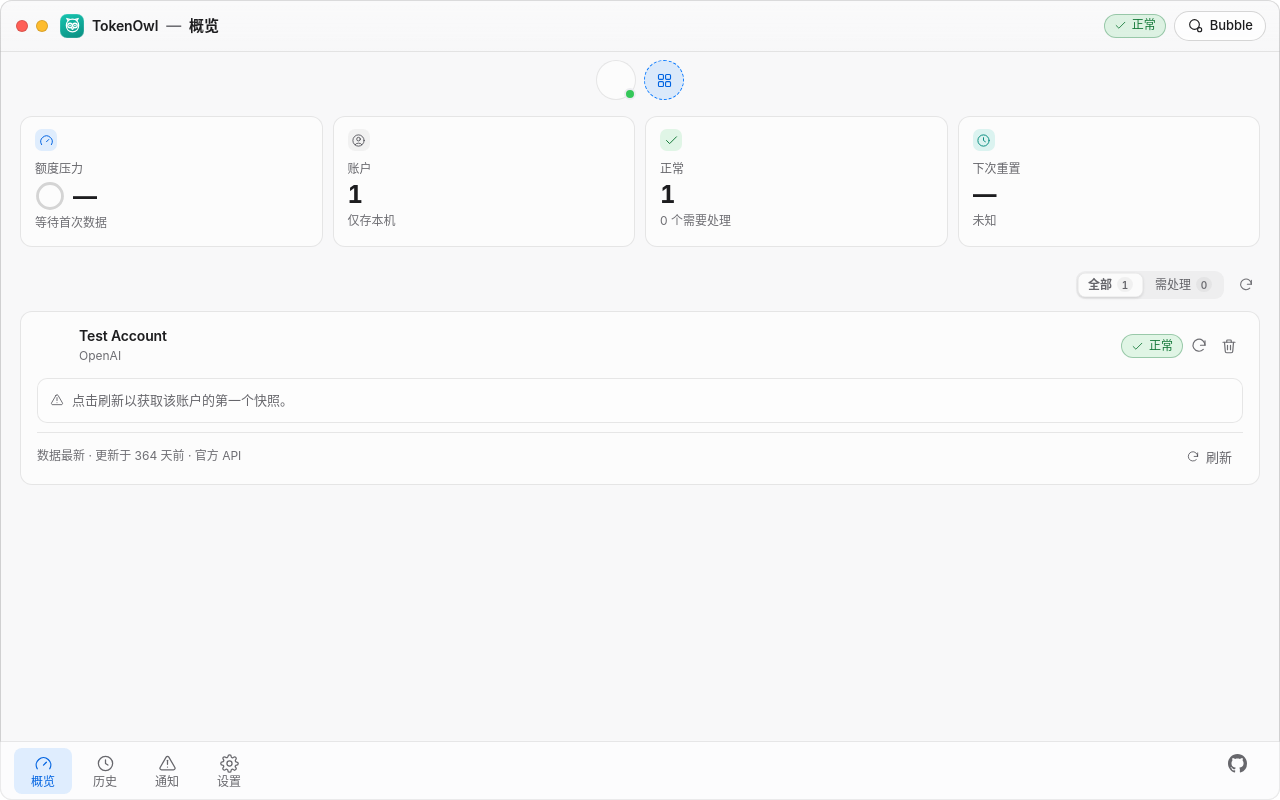
Test: Dashboard state machine › returns to the overview from a provider view on Escape
Expected: the text "Test Account" is shown, [79,326,167,346]
Click the button named "查看供应商": (616,80) [596,60,636,100]
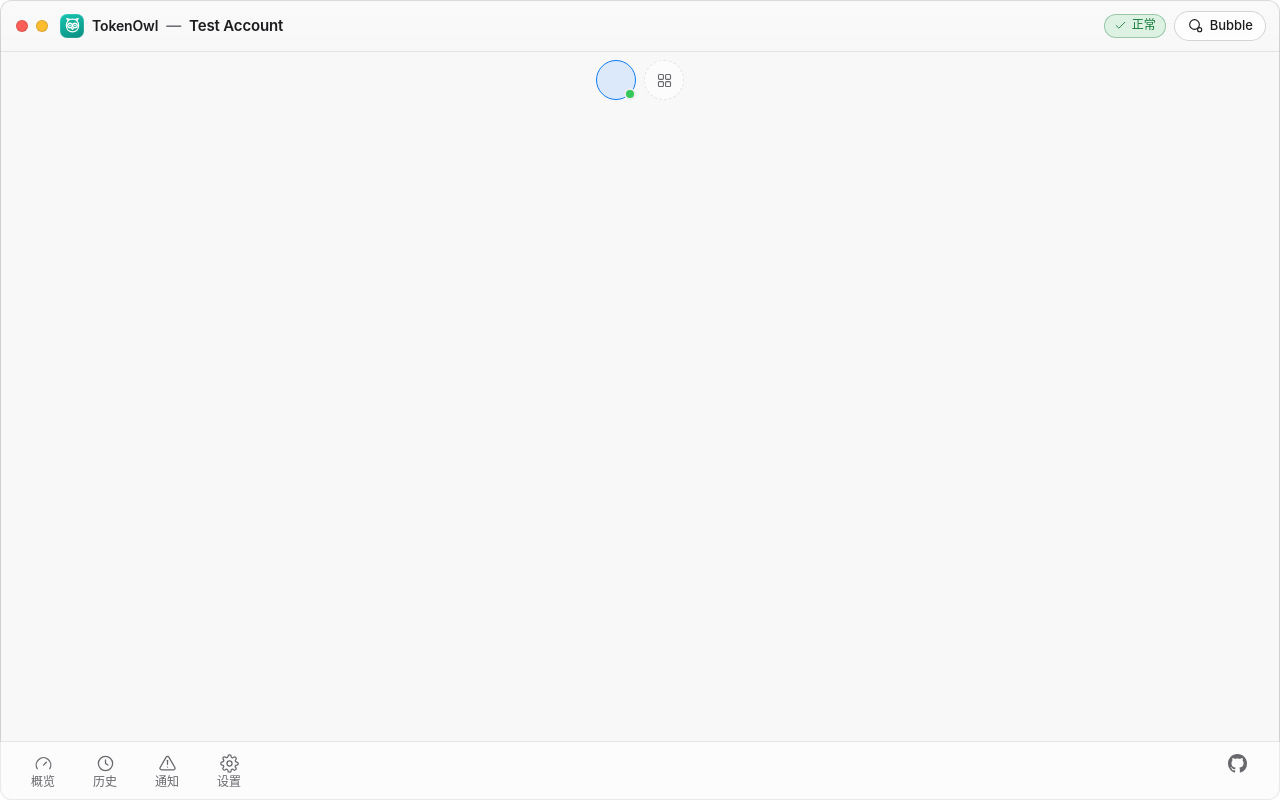
Now the heading "Test Account" is shown, box [166,13,283,38]
Press Escape
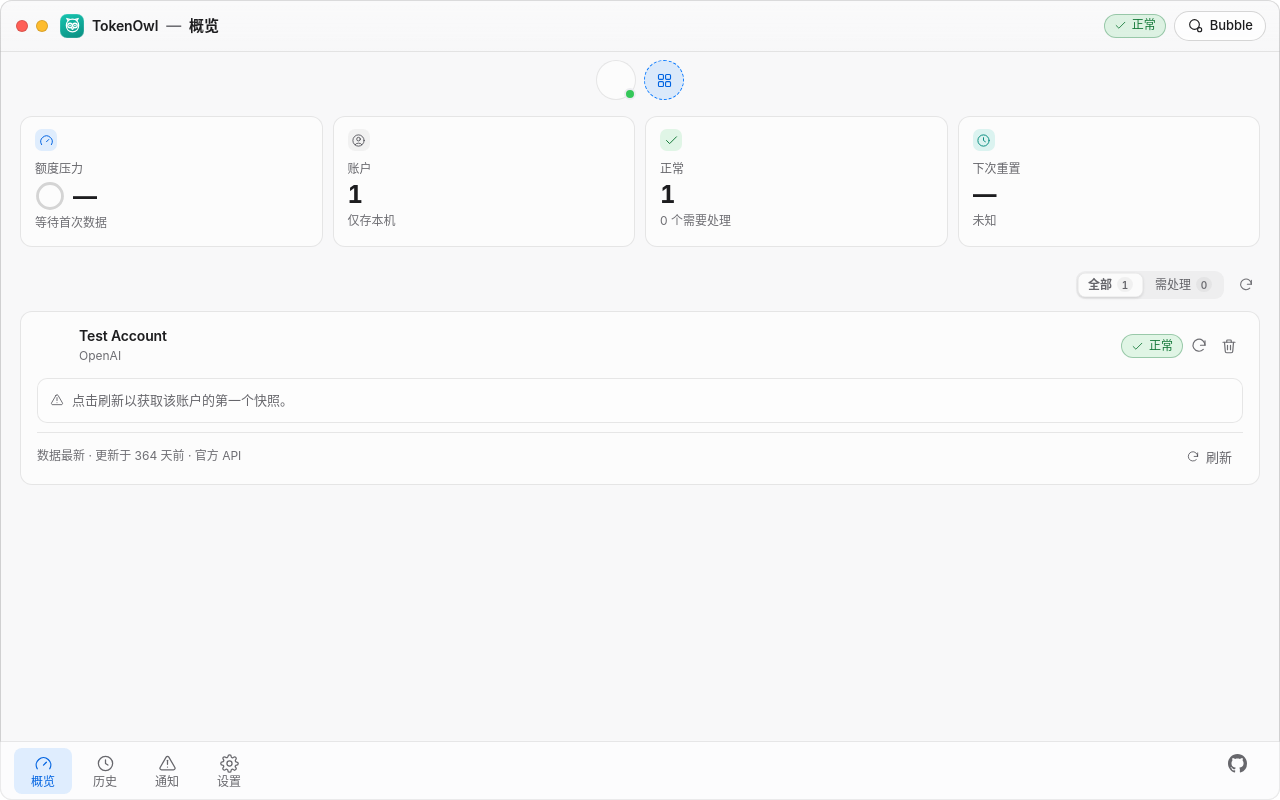
Now the heading "概览" is shown, box [166,13,219,38]
